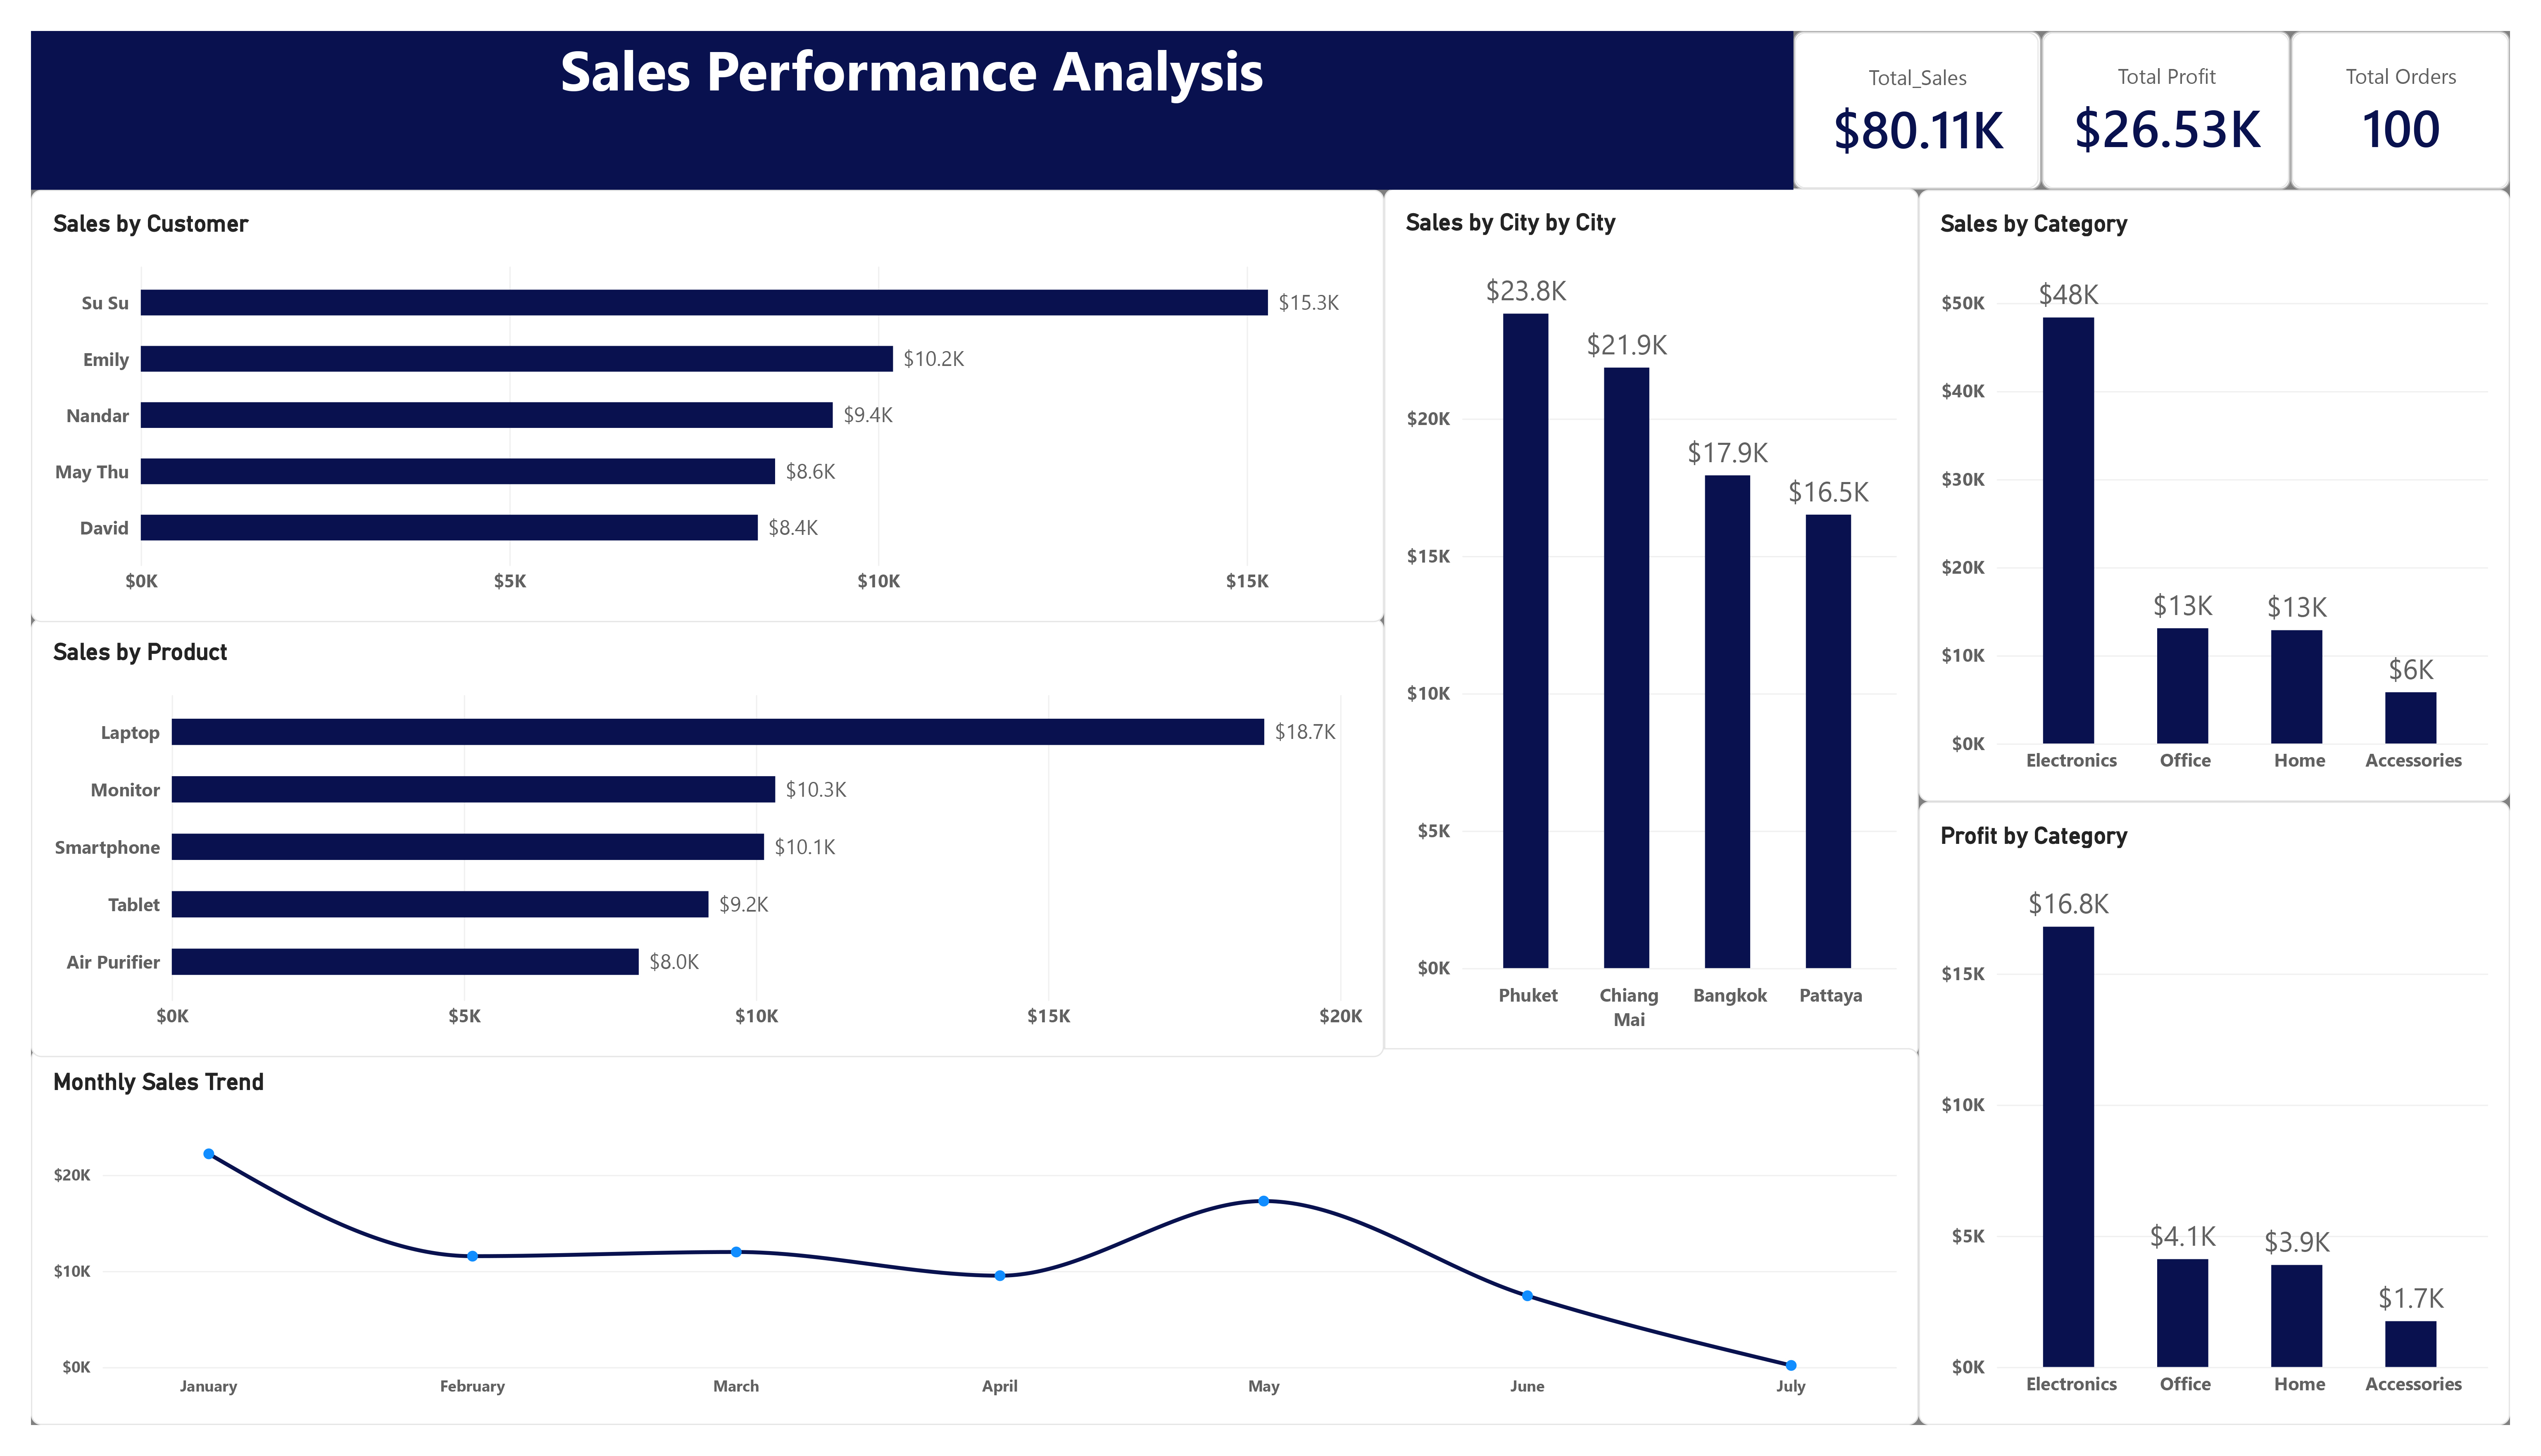

This screenshot's page, from the dashboard's own definition file:
{"tool":"powerbi","page":{"name":"Dashboard","canvas":[1920,1080],"ordinal":0},"visuals":[{"type":"cardVisual","fields":{"Data":["Sum(Raw_data.Sales)"]},"box":[1365,0,191.7,123.3],"z":0},{"type":"cardVisual","fields":{"Data":["Sum(Raw_data.Profit)"]},"box":[1556.7,0,193.3,123.3],"z":1000},{"type":"cardVisual","fields":{"Data":["CountNonNull(Raw_data.Order_ID)"]},"box":[1750,0,170,123.3],"z":2000},{"type":"clusteredColumnChart","title":"Sales by Category","fields":{"Category":["Raw_data.Category"],"Y":["Sum(Raw_data.Sales)"]},"box":[1461.7,123.3,458.3,473.3],"z":3000},{"type":"clusteredColumnChart","fields":{"Category":["Raw_data.City"],"Y":["Sum(Raw_data.Sales)"]},"box":[1048.3,121.7,413.3,673.3],"z":4000},{"type":"lineChart","title":"Monthly Sales Trend","fields":{"Category":["Raw_data.Date.Variation.Date Hierarchy.Month"],"Y":["Sum(Raw_data.Sales)"]},"box":[0,788.3,1461.7,291.7],"z":5000},{"type":"clusteredBarChart","title":"Sales by Product","fields":{"Category":["Raw_data.Product"],"Y":["Sum(Raw_data.Sales)"]},"box":[0,455,1048.3,340],"z":6000},{"type":"clusteredColumnChart","title":"Profit by Category","fields":{"Category":["Raw_data.Category"],"Y":["Sum(Raw_data.Profit)"]},"box":[1461.7,596.7,458.3,483.3],"z":7000},{"type":"clusteredBarChart","title":"Sales by Customer","fields":{"Category":["Raw_data.Customer"],"Y":["Sum(Raw_data.Sales)"]},"box":[0,123.3,1048.3,335],"z":8000},{"type":"textbox","box":[0,0,1365,123.3],"z":9000}]}

Visuals, with their boxes on the page's 1920x1080 design canvas (x1, y1, x2, y2). These are canvas units, not pixel positions in the 2541x1456 screenshot, which may show the page scaled, cropped or inside an application window:
cardVisual - Sum(Raw_data.Sales): region(1365, 0, 1557, 123)
cardVisual - Sum(Raw_data.Profit): region(1557, 0, 1750, 123)
cardVisual - CountNonNull(Raw_data.Order_ID): region(1750, 0, 1920, 123)
"Sales by Category" clusteredColumnChart: region(1462, 123, 1920, 597)
clusteredColumnChart - Raw_data.City x Sum(Raw_data.Sales): region(1048, 122, 1462, 795)
"Monthly Sales Trend" lineChart: region(0, 788, 1462, 1080)
"Sales by Product" clusteredBarChart: region(0, 455, 1048, 795)
"Profit by Category" clusteredColumnChart: region(1462, 597, 1920, 1080)
"Sales by Customer" clusteredBarChart: region(0, 123, 1048, 458)
textbox: region(0, 0, 1365, 123)
